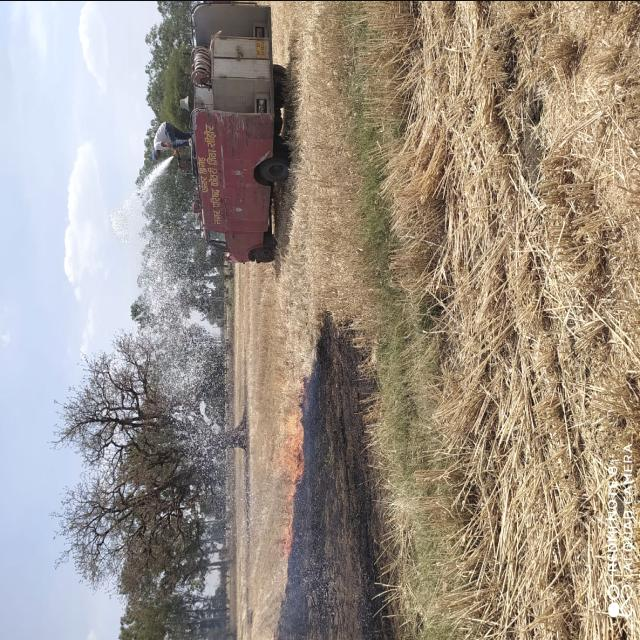firerotation: (276, 416, 304, 562)
